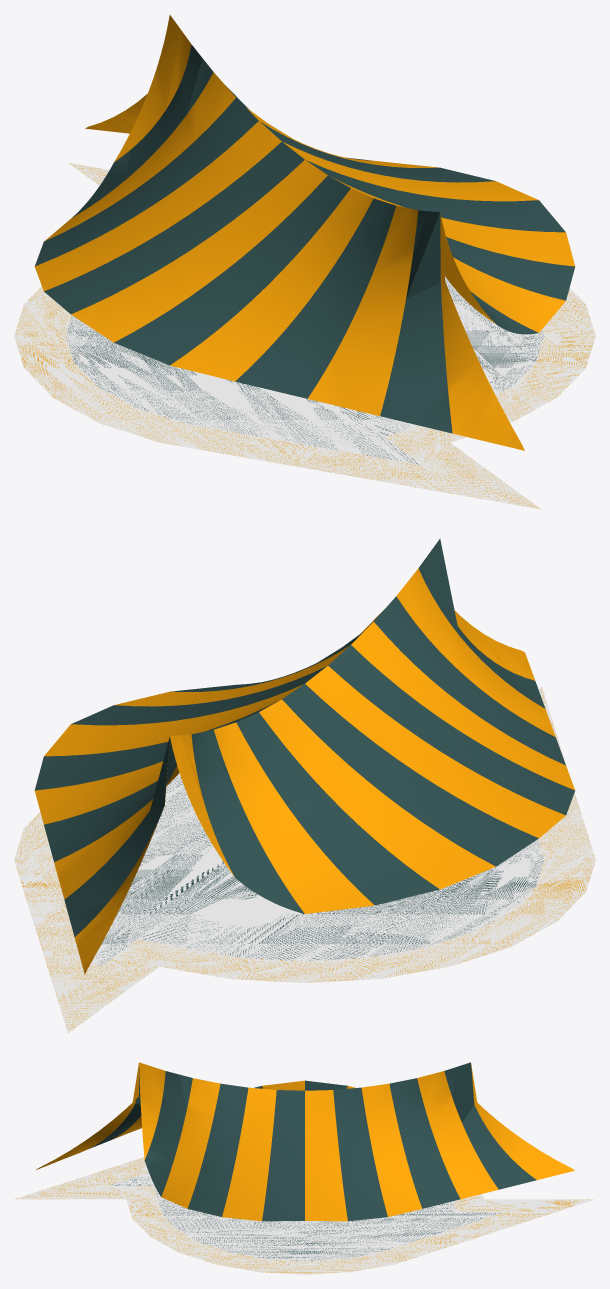
Rendered from large_canopy_tent.dae.
3 views of the same model, one above another, from view 1: azimuth 30°, elevation 25°; view 2: azimuth 150°, elevation 25°; view 3: azimuth 270°, elevation 25° (orthographic). The views are drawn at different scales.
Visible parts, largest first — view 1: tent (×24); view 2: tent (×24); view 3: tent (×19).
Boxes of the visible parts, x1=… form: tent (×24): x1=14, y1=14, x2=595, y2=509; tent (×24): x1=14, y1=538, x2=595, y2=1033; tent (×19): x1=14, y1=1062, x2=594, y2=1274.
Size of the model in its own units: 224 by 364 by 94.56.
